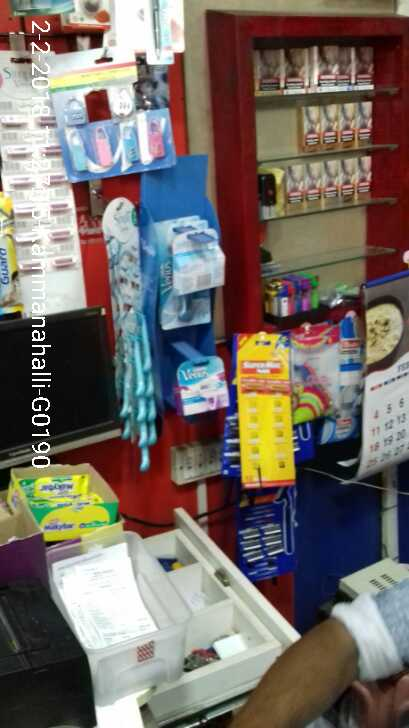beauty: (159, 230, 220, 327), (170, 349, 229, 412)
